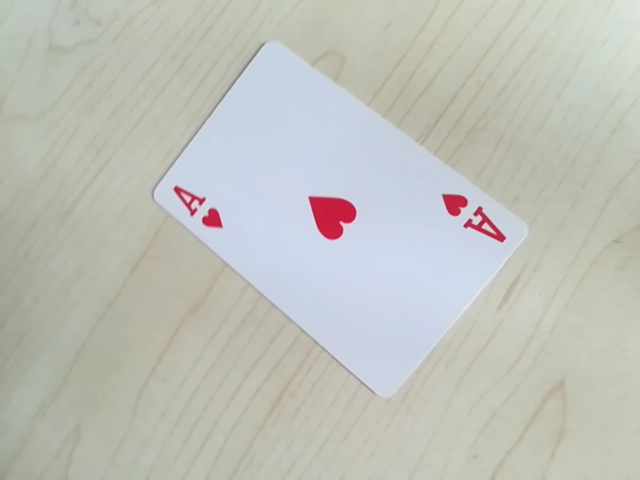hx a: (437, 184, 517, 247), (167, 182, 229, 236)
